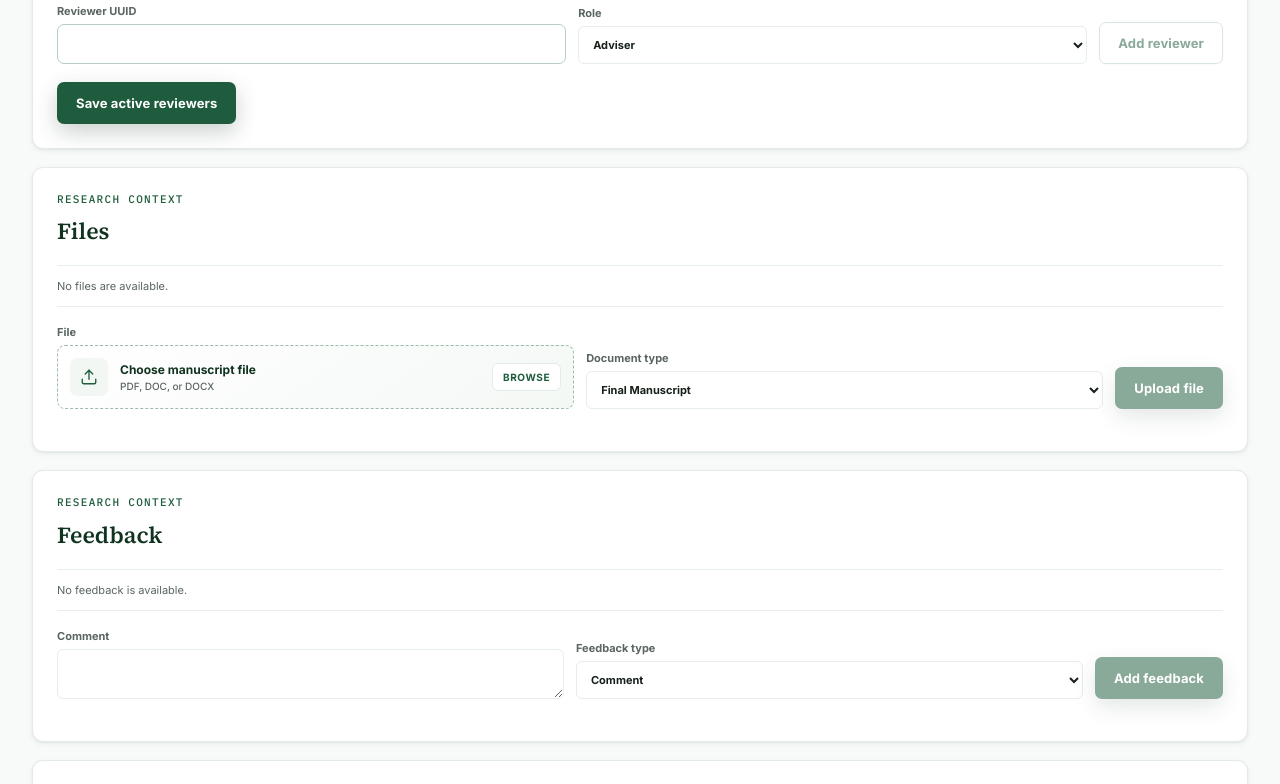
it: AdminResearchWorkspace › resets an incompatible upload type after authoritative status changes
The image size is (1280, 784).
(page scrolled)
Select "Chapter" in the dropdown labelled "Document type": (845, 390) [586,371,1103,409]
(page scrolled)
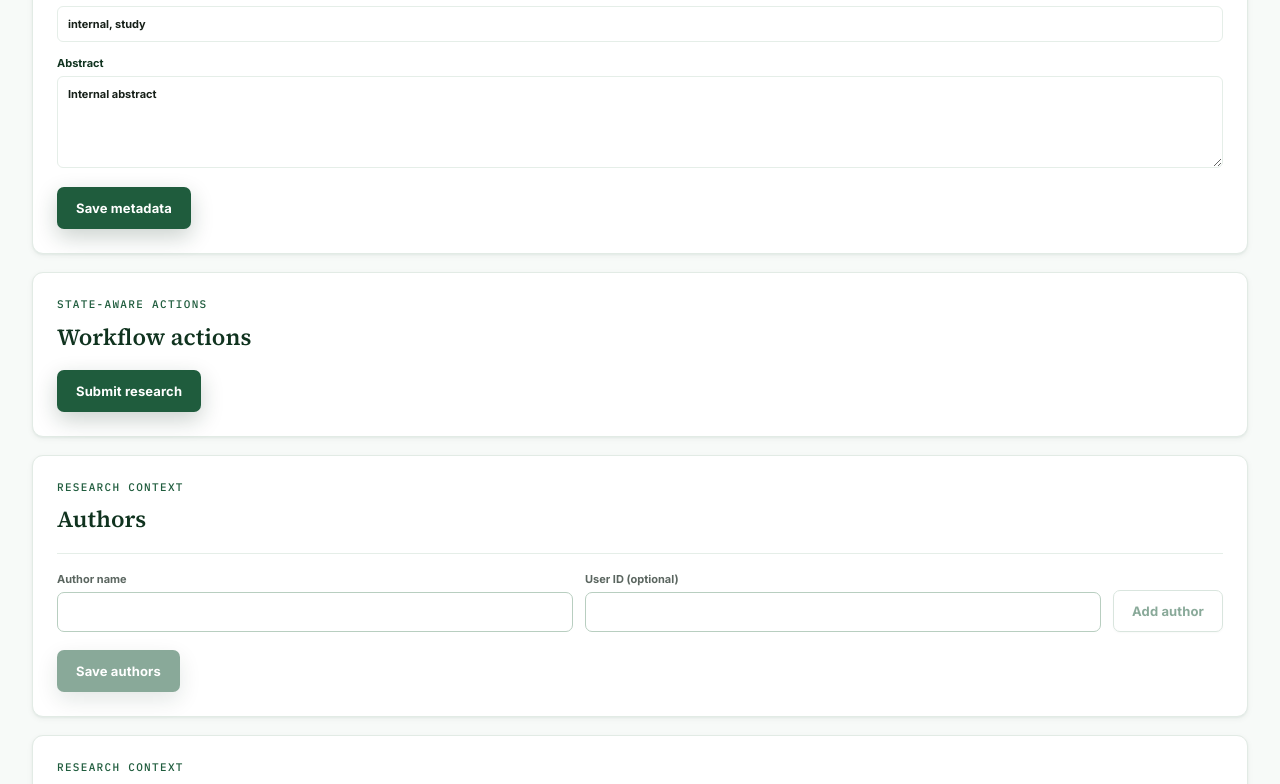
Click the button "Submit research": (129, 391) [57,370,201,412]
(page scrolled)
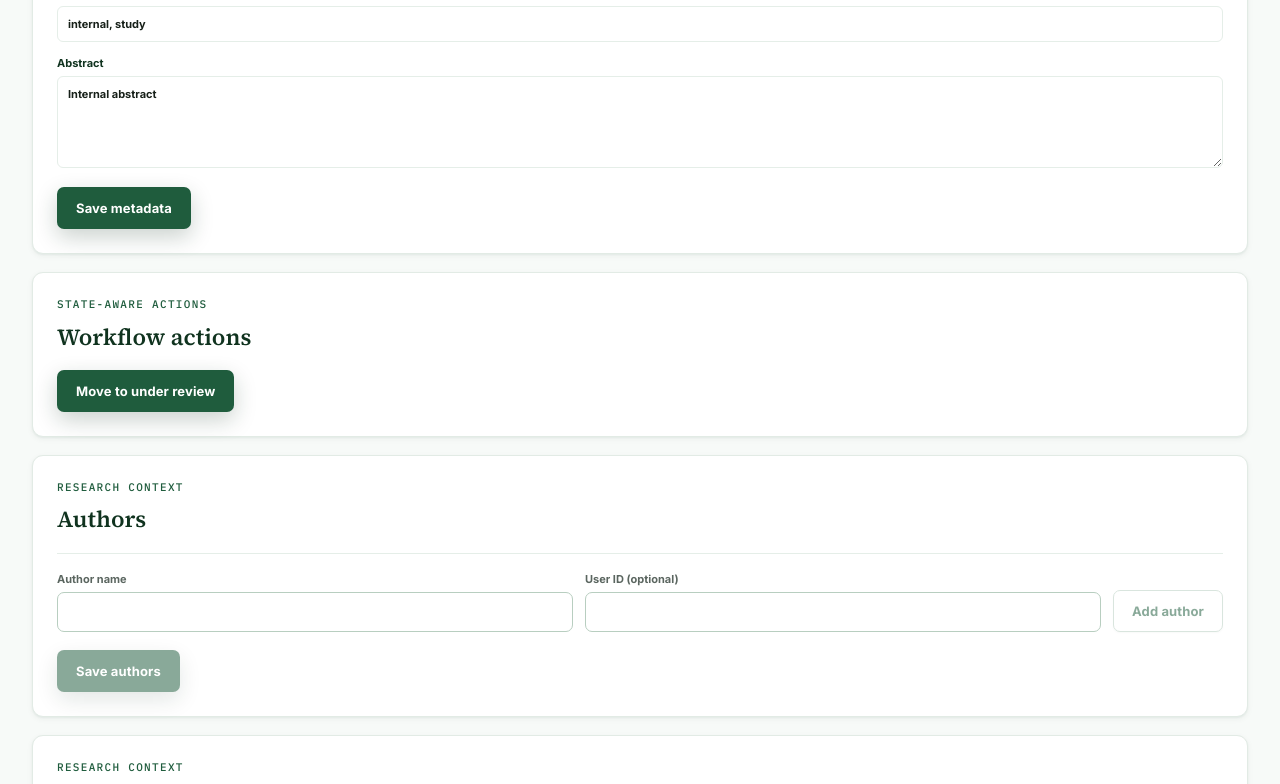
Click the button "Move to under review": (146, 391) [57,370,234,412]
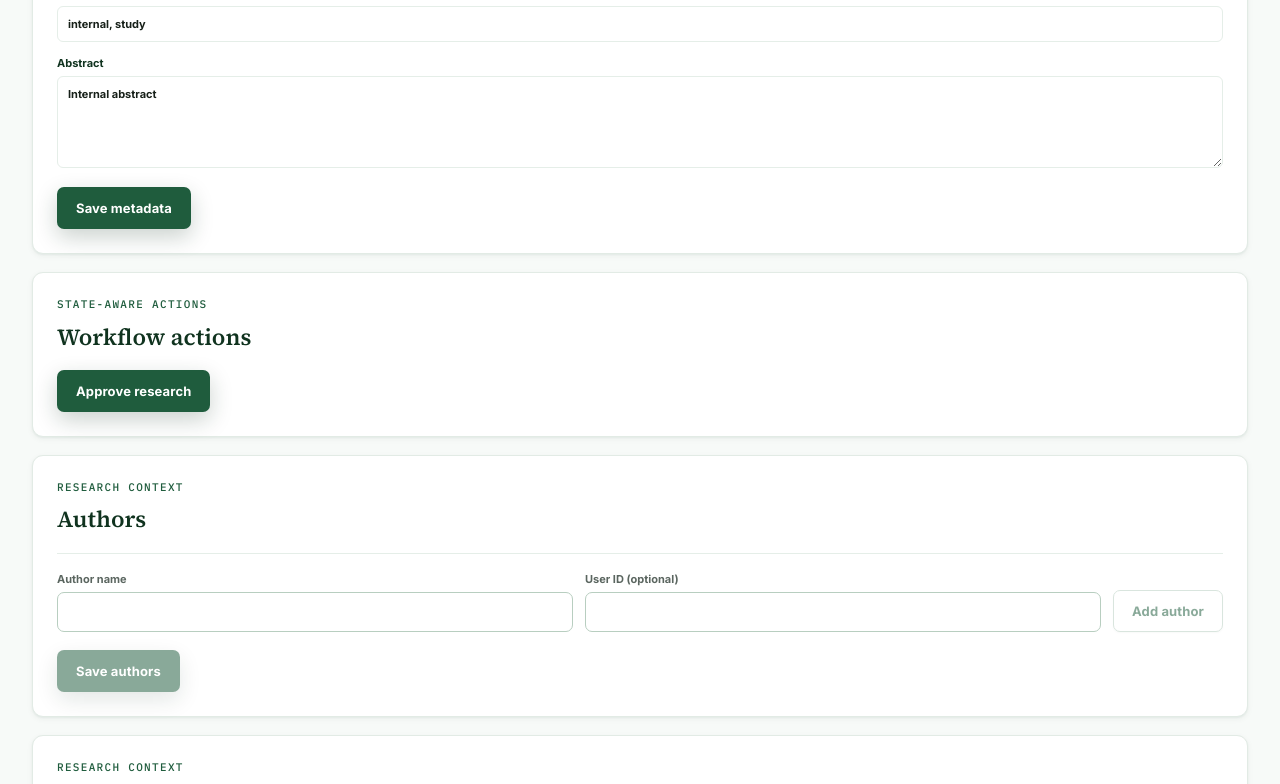
Click the button "Approve research": (134, 391) [57,370,210,412]
(page scrolled)
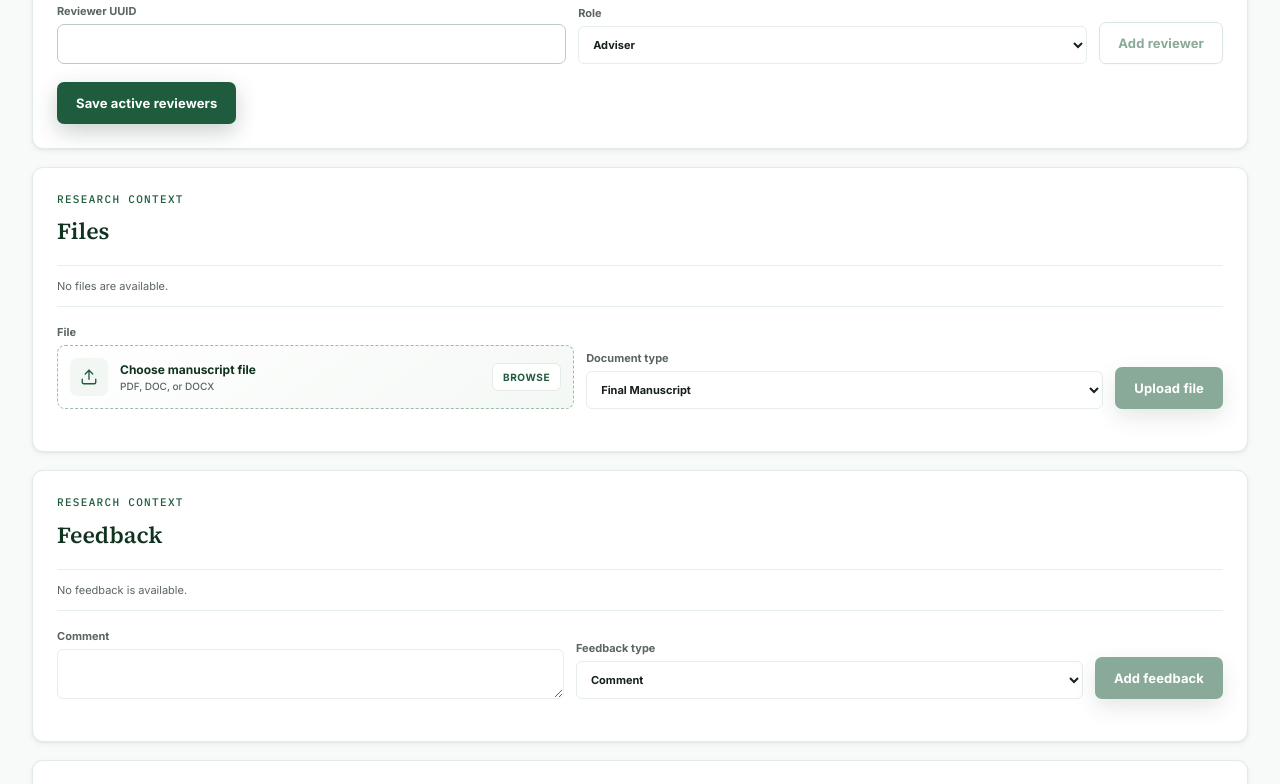
Result: the dropdown labelled "Document type" shows "Final Manuscript" at [586,371,1103,409]
